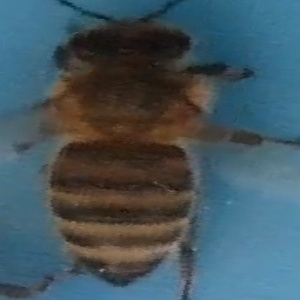bee: (7, 10, 272, 294)
